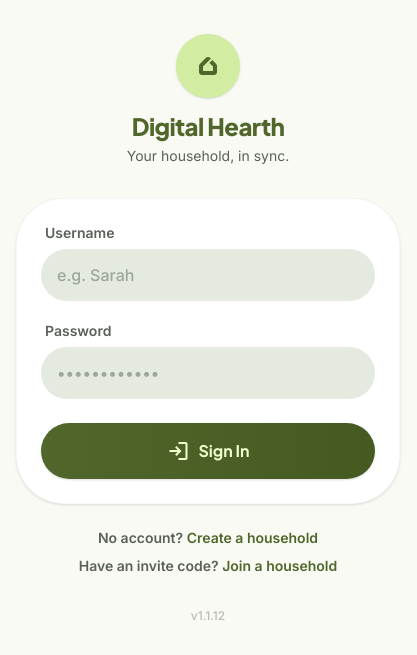
Login › clears the error message on a new submit attempt
Type "Sarah" into the field labelled "Username". click: (208, 275)
box: 41,249 -> 375,301
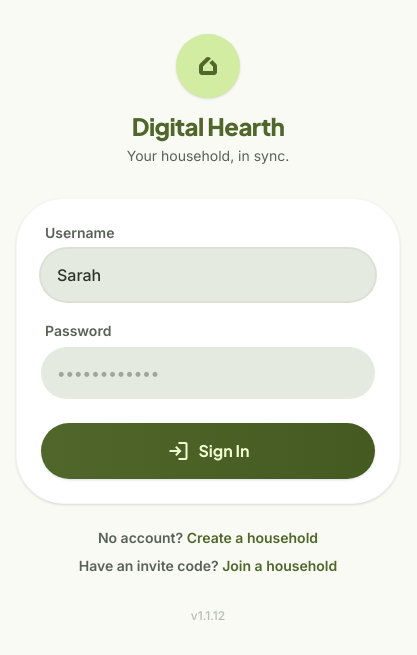
Type "wrong" into the password field labelled "Password". click: (208, 373)
box: 41,347 -> 375,399
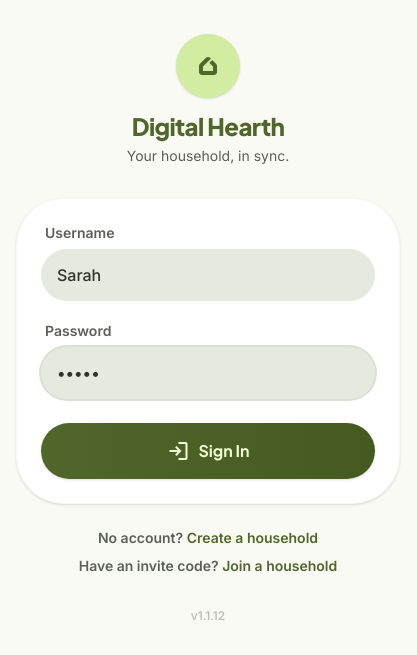
Click the button "Sign In". click: click(208, 451)
box: 41,423 -> 375,479
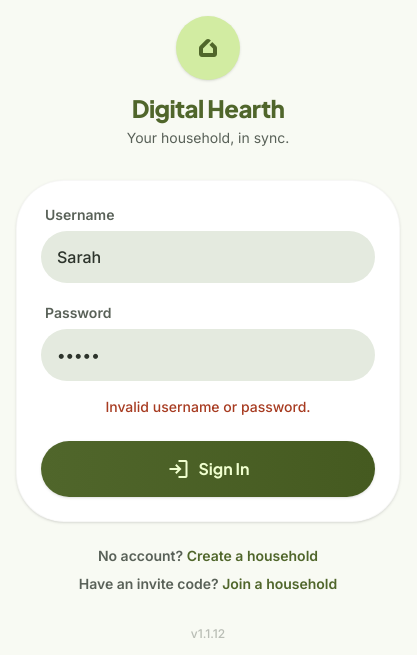
Result: the text "Invalid username or password." is shown at 105,398 -> 311,415
Click the button "Sign In". click: click(208, 469)
box: 41,441 -> 375,497
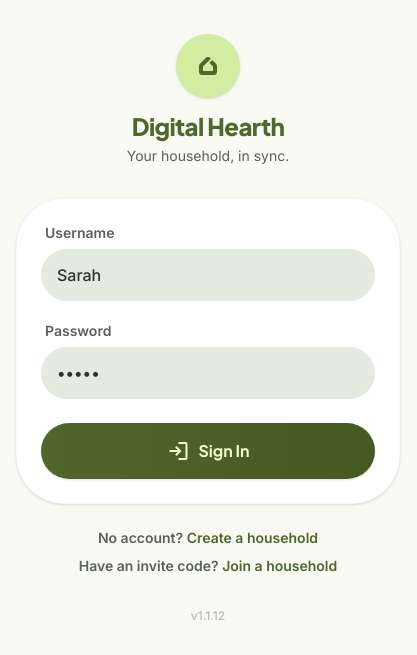
Result: the text "Invalid username or password." is gone
